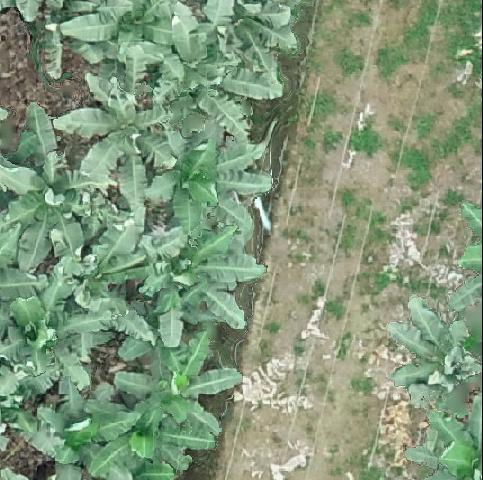Banana-plant: (61, 79, 173, 211), (66, 214, 183, 339), (142, 226, 263, 340), (166, 27, 291, 133), (3, 269, 103, 399), (152, 128, 277, 231), (118, 341, 239, 429), (0, 147, 87, 269), (60, 0, 191, 81), (388, 300, 483, 403), (38, 381, 134, 467), (98, 411, 216, 480)
